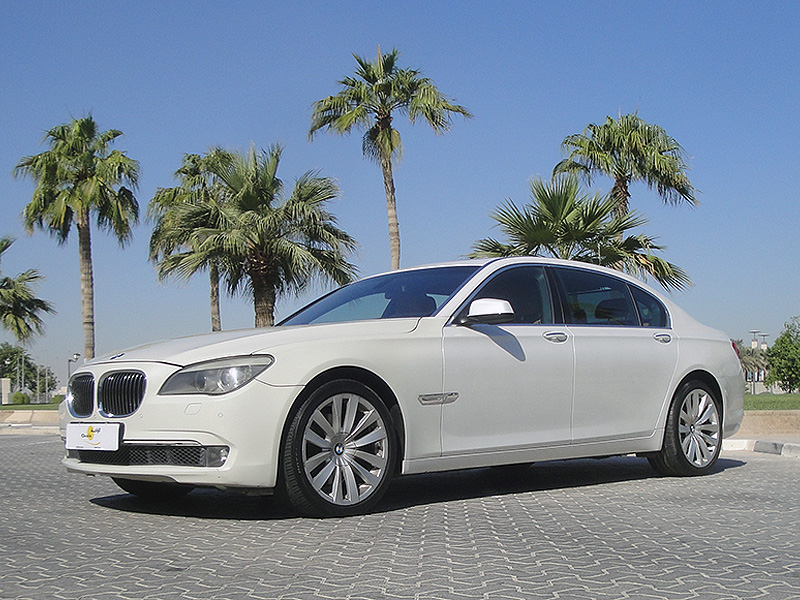other: (53, 254, 765, 528)
